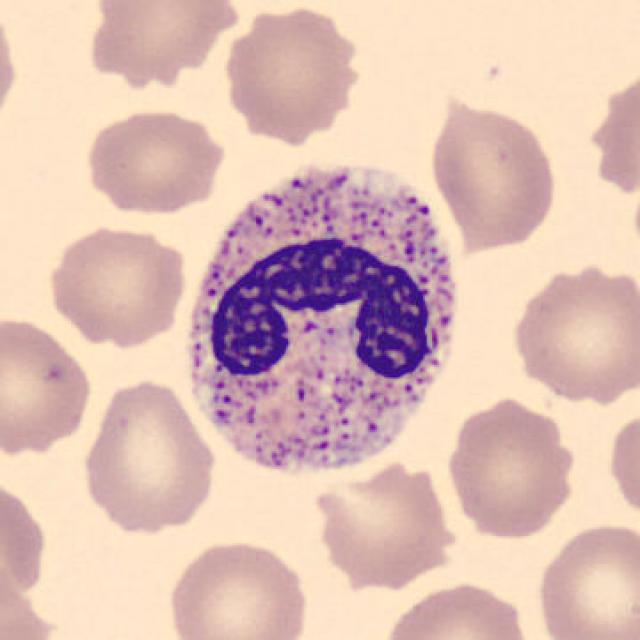Neutrophil: (167, 144, 478, 492)
RBC: (78, 376, 220, 536), (425, 93, 560, 254), (217, 2, 368, 141), (306, 457, 460, 589), (442, 395, 580, 541), (507, 258, 638, 406), (43, 222, 190, 349), (80, 104, 229, 219), (163, 534, 313, 640), (81, 0, 244, 92), (0, 311, 96, 458), (532, 518, 638, 640), (379, 578, 537, 640), (0, 472, 50, 620), (591, 78, 640, 193), (604, 402, 640, 531), (0, 2, 21, 136)
